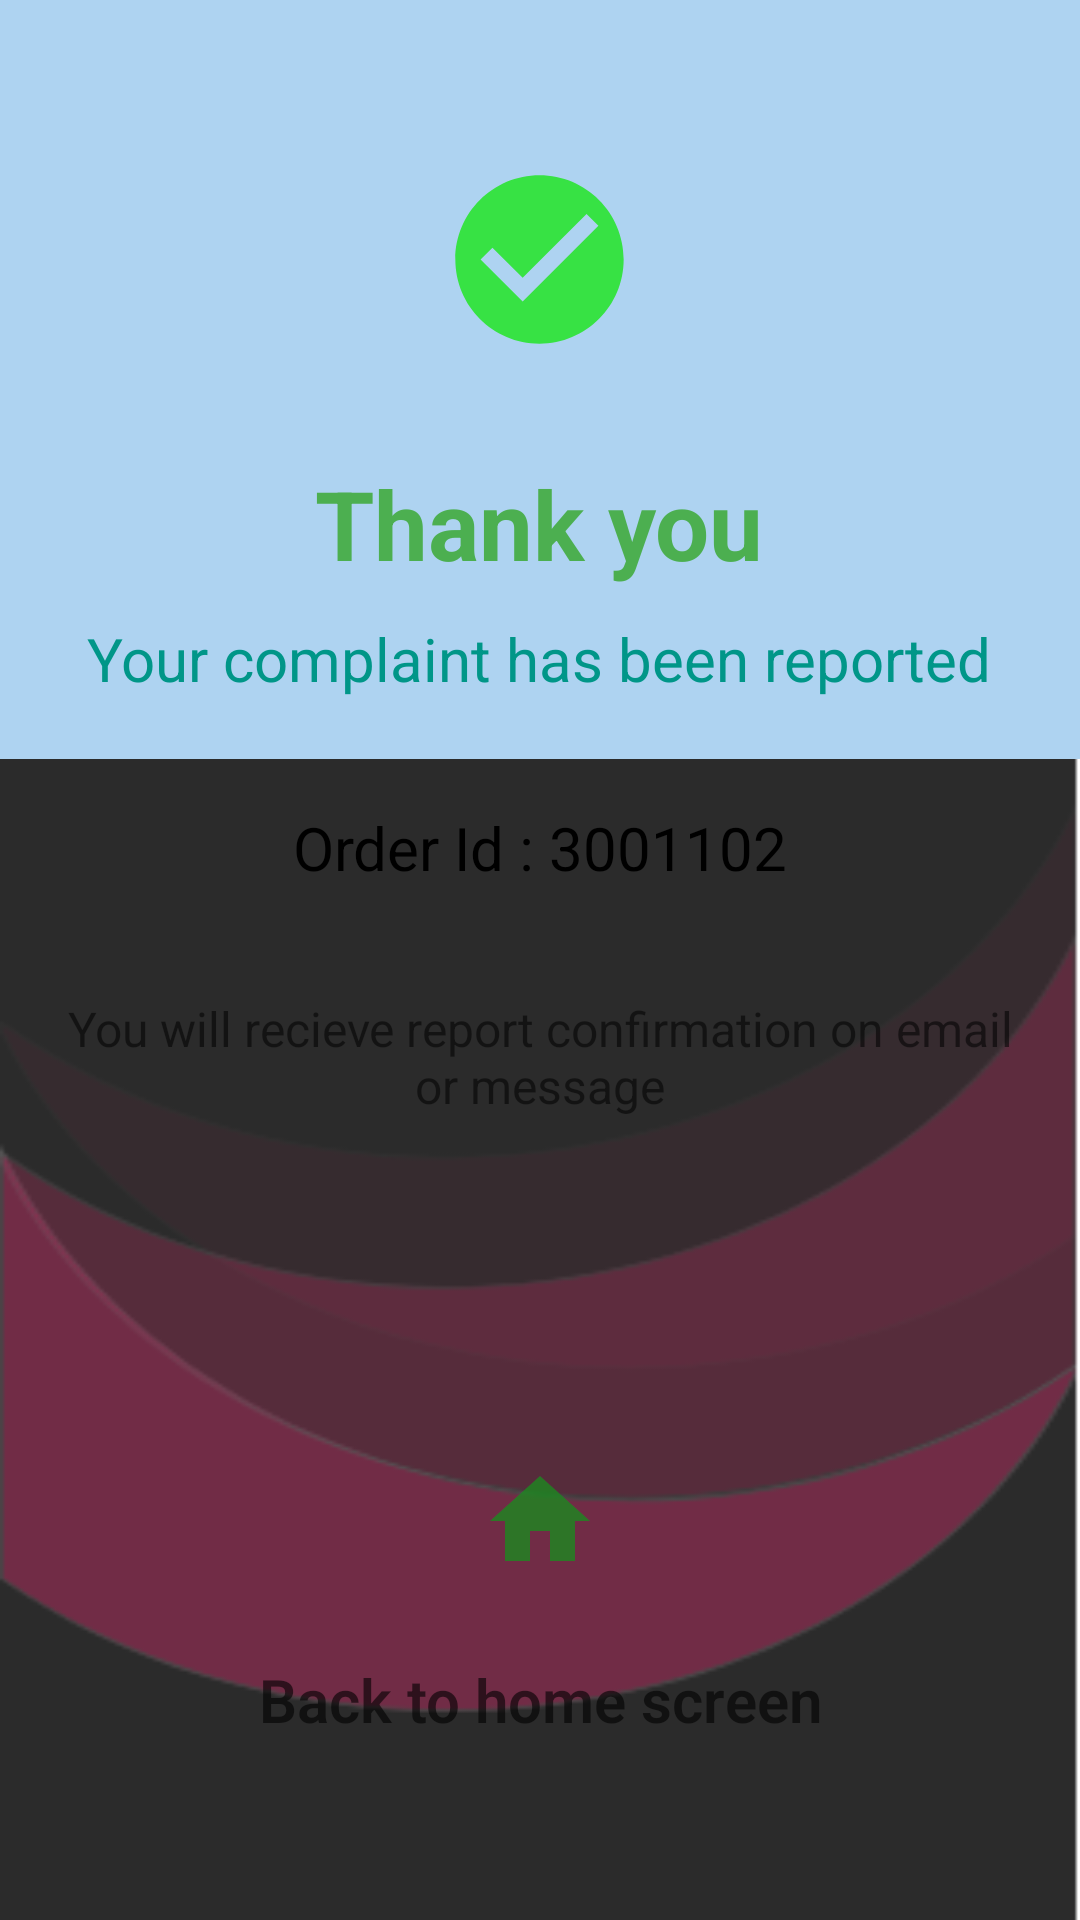

Screen size 1080px x 1920px. Icon name, then its box in pixels as [x1=x1, y1=y1, x2=x2, y2=y2]:
check circle: [x1=455, y1=175, x2=624, y2=344]
